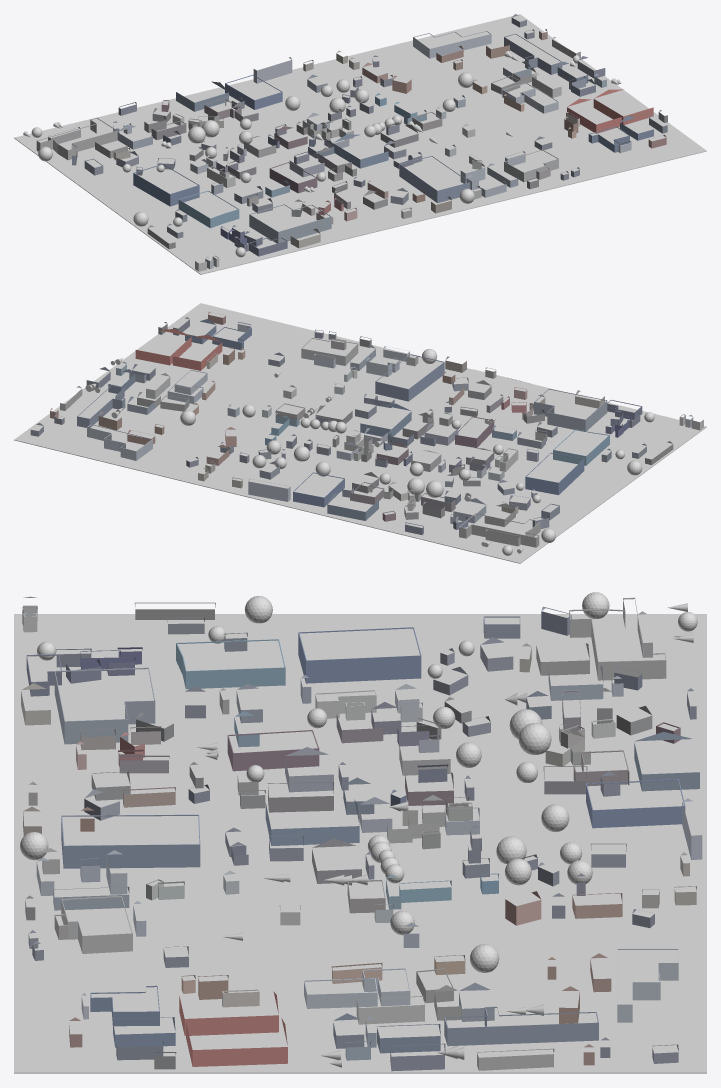
The model's file is scene_5dbfbf75-f06b-4ee5-ae15-f1a0d60199fe.glb.
The picture shows the model from 3 angles, top to bottom: view 1: azimuth 30°, elevation 25°; view 2: azimuth 150°, elevation 25°; view 3: azimuth 270°, elevation 25°; orthographic projection. The views are drawn at different scales.
Parts seen in each view (by area): view 1: Ground_Base, BLD-003, BLD-005, BLD-001, BLD-002, BLD-010, BLD-008, BLD-014, BLD-007, BLD-004, BLD-009, BLD-013 (+5 smaller); view 2: Ground_Base, BLD-003, BLD-001, BLD-005, BLD-002, BLD-010, BLD-008, BLD-014, BLD-004, BLD-057, BLD-007, BLD-013 (+4 smaller); view 3: Ground_Base, BLD-001, BLD-014, BLD-002, BLD-003, BLD-008, BLD-005, BLD-007, BLD-004, BLD-006, BLD-011, BLD-009 (+25 smaller).
Boxes of the visible parts, x1,y1,x2,y2 form: Ground_Base: (14,14,706,274); BLD-003: (249,204,331,243); BLD-005: (36,117,117,160); BLD-001: (399,156,470,203); BLD-002: (133,164,199,206); BLD-010: (413,31,491,58); BLD-008: (178,190,239,228); BLD-014: (504,33,562,74); BLD-007: (225,75,282,109); BLD-004: (593,89,653,125); BLD-009: (333,134,388,168); BLD-013: (504,149,558,182); Ground_Base: (14,303,706,563); BLD-003: (534,388,607,431); BLD-001: (375,354,444,401); BLD-005: (459,513,540,547); BLD-002: (525,452,584,495); BLD-010: (87,424,152,460); BLD-008: (553,429,609,465); BLD-014: (77,385,125,427); BLD-004: (135,329,191,365); BLD-057: (248,478,290,501); BLD-007: (293,472,344,507); BLD-013: (301,338,358,365); Ground_Base: (14,614,706,1073); BLD-001: (61,814,200,868); BLD-014: (444,1006,598,1046); BLD-002: (298,627,421,683); BLD-003: (54,667,155,744); BLD-008: (176,639,285,689); BLD-005: (569,597,666,680); BLD-007: (586,779,685,828); BLD-004: (186,1018,287,1066); BLD-006: (179,991,278,1035); BLD-011: (227,730,319,771); BLD-009: (265,799,359,845).
Bounding box in the file's own units: 342 × 12.07 × 216.
